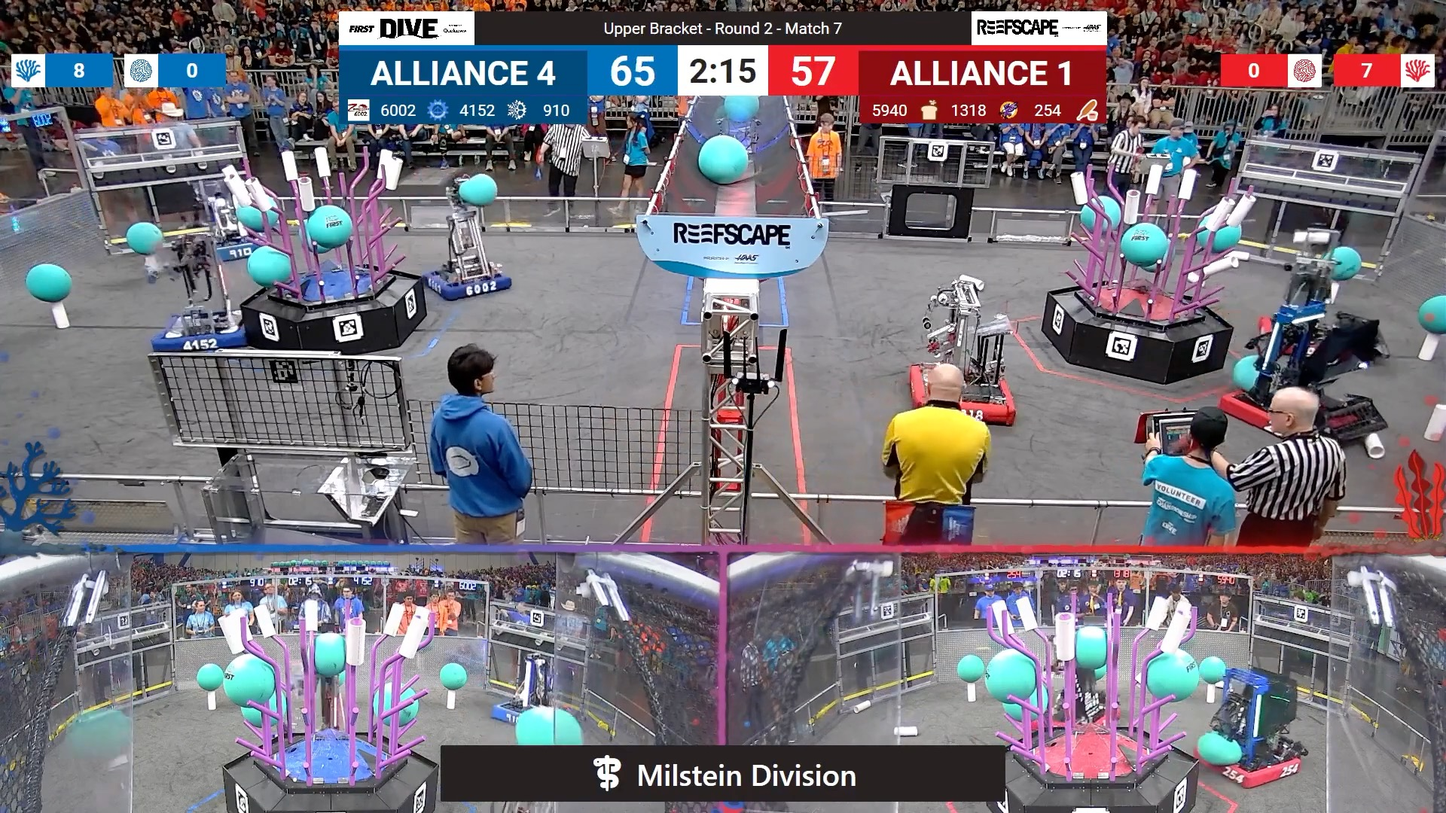bumpers: (1211, 380, 1378, 440), (904, 363, 1026, 428), (1201, 740, 1305, 791), (156, 305, 251, 353), (418, 263, 519, 302), (194, 238, 269, 262), (485, 700, 540, 728)
